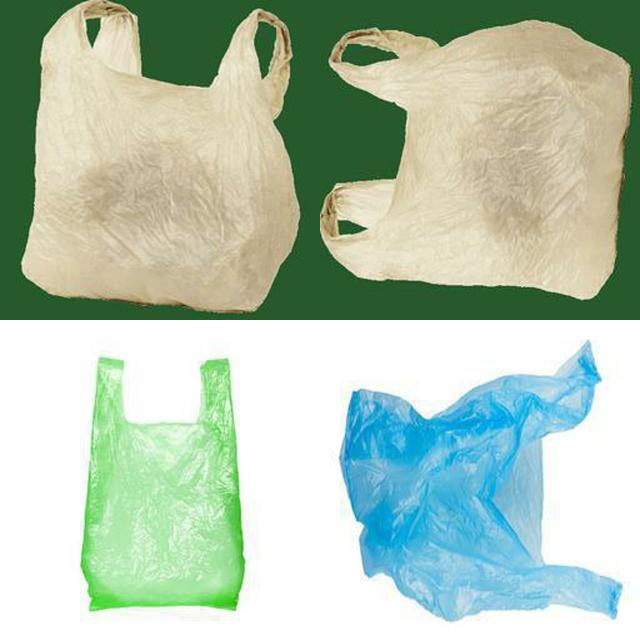Single-layer Plastic: (22, 0, 300, 311), (320, 21, 630, 299), (340, 342, 620, 621), (81, 358, 244, 610)
